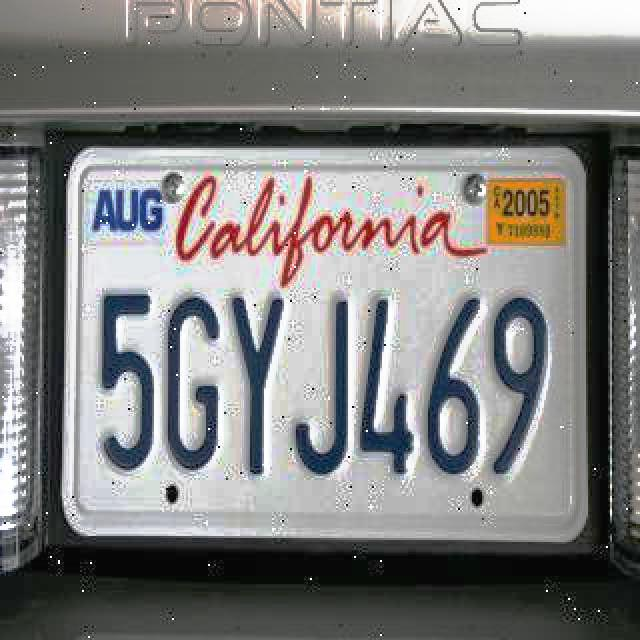license_plate: (71, 150, 585, 542)
